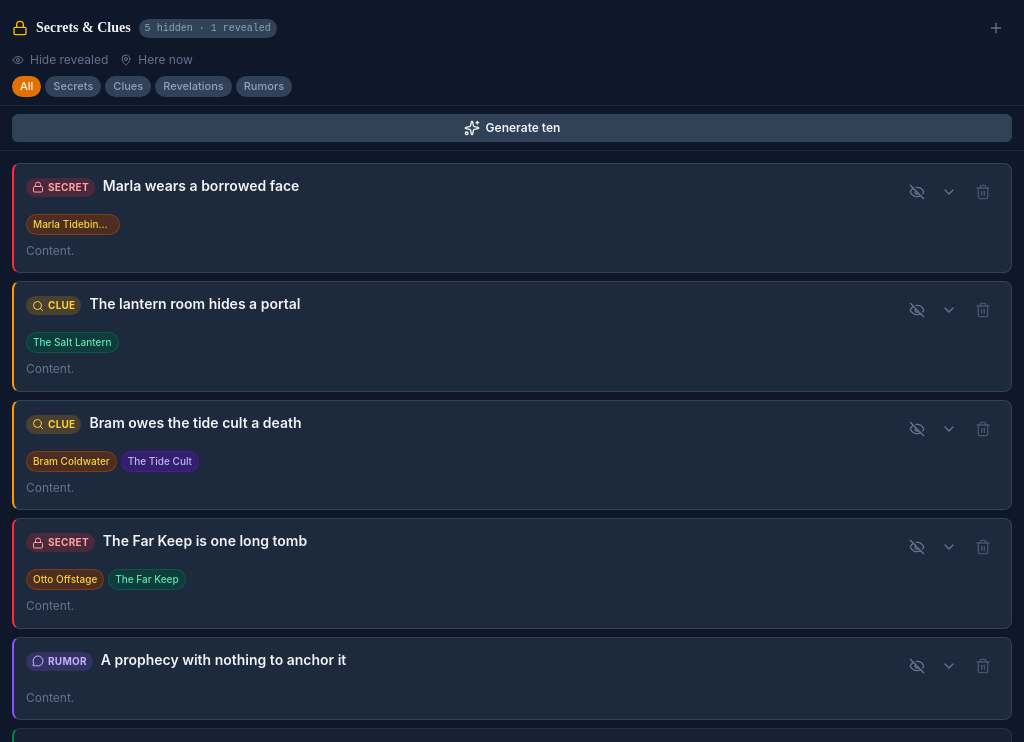
Scenario: SecretsTracker — the here-now filter narrows to the live scene › shows the existing empty state — not a crash — when the live scene has an empty cast and no location
Click the button "Here now" at (156, 60), box [120,52,193,68]
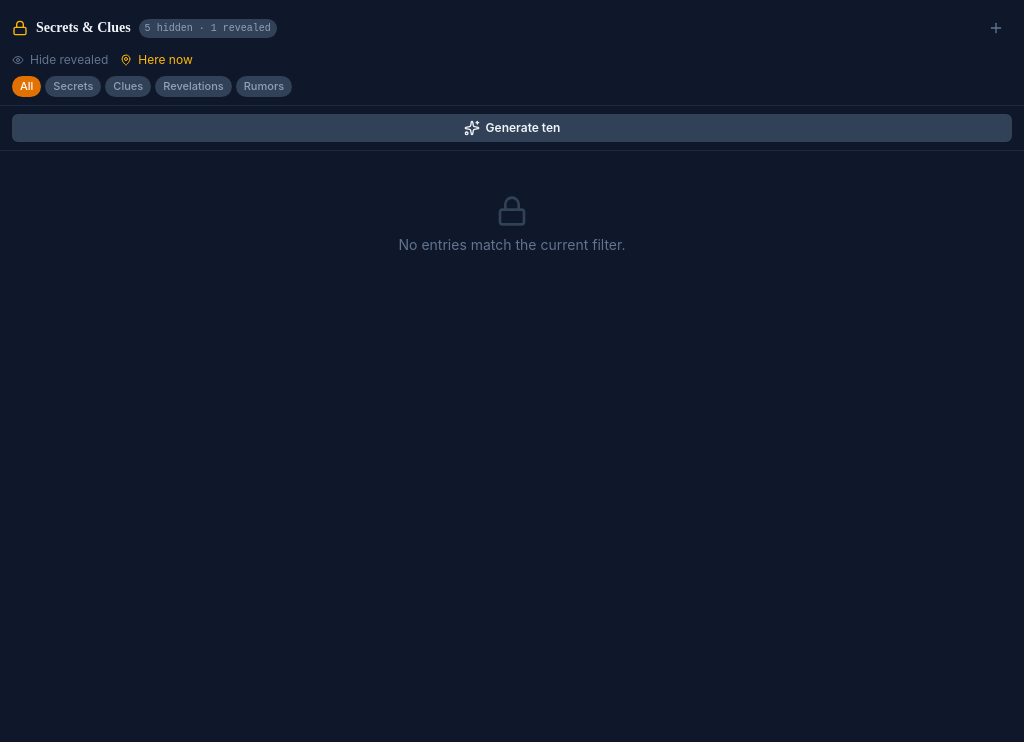
Now the text "No entries match the current filter." is shown, box [398,234,625,254]
